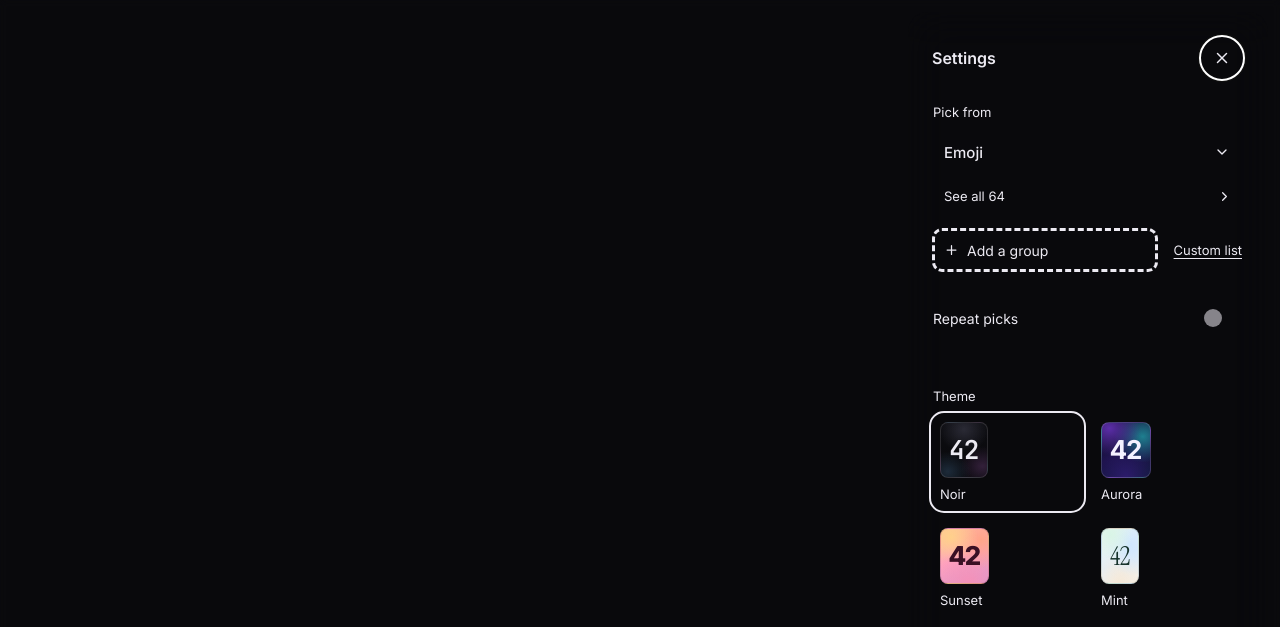
Test case: SettingsDialog › re-lands on the requested page each time it opens, not wherever it was left
The width and height of the screenshot is (1280, 627).
Click the button "See all 64": {"x": 966, "y": 196} [932,174,1244,218]
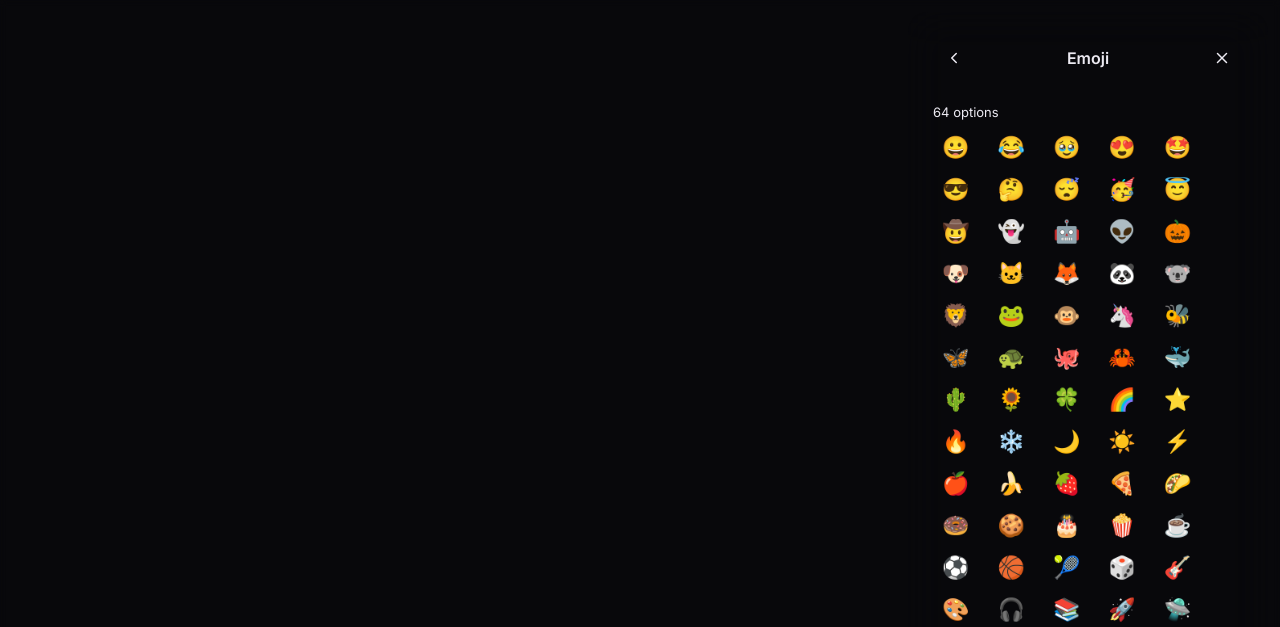
Result: the heading reads "Emoji" at [1067,48,1109,68]
